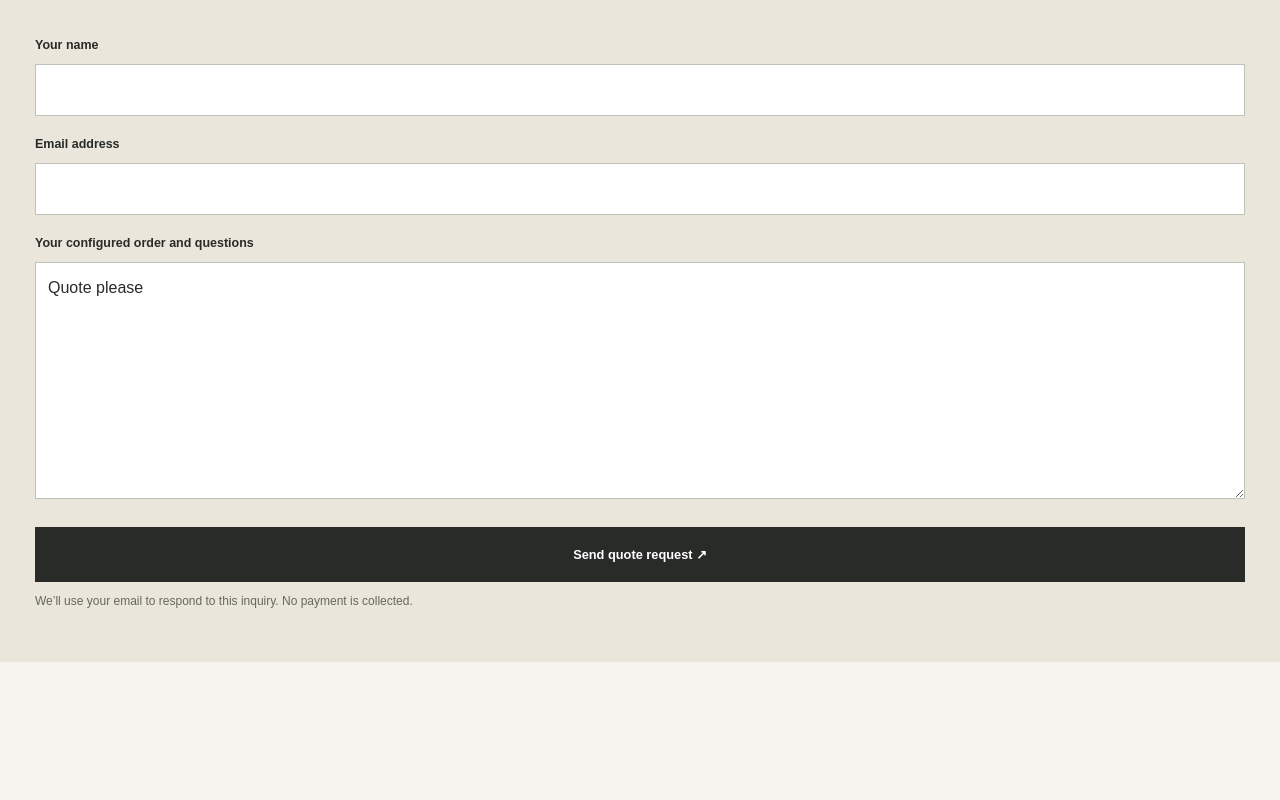
Test: internal-only success explains the missing confirmation
This screenshot has width=1280, height=800.
Type "Trade Buyer" into the field labelled "Your name" at coordinates (640, 90), box [35, 64, 1245, 116]
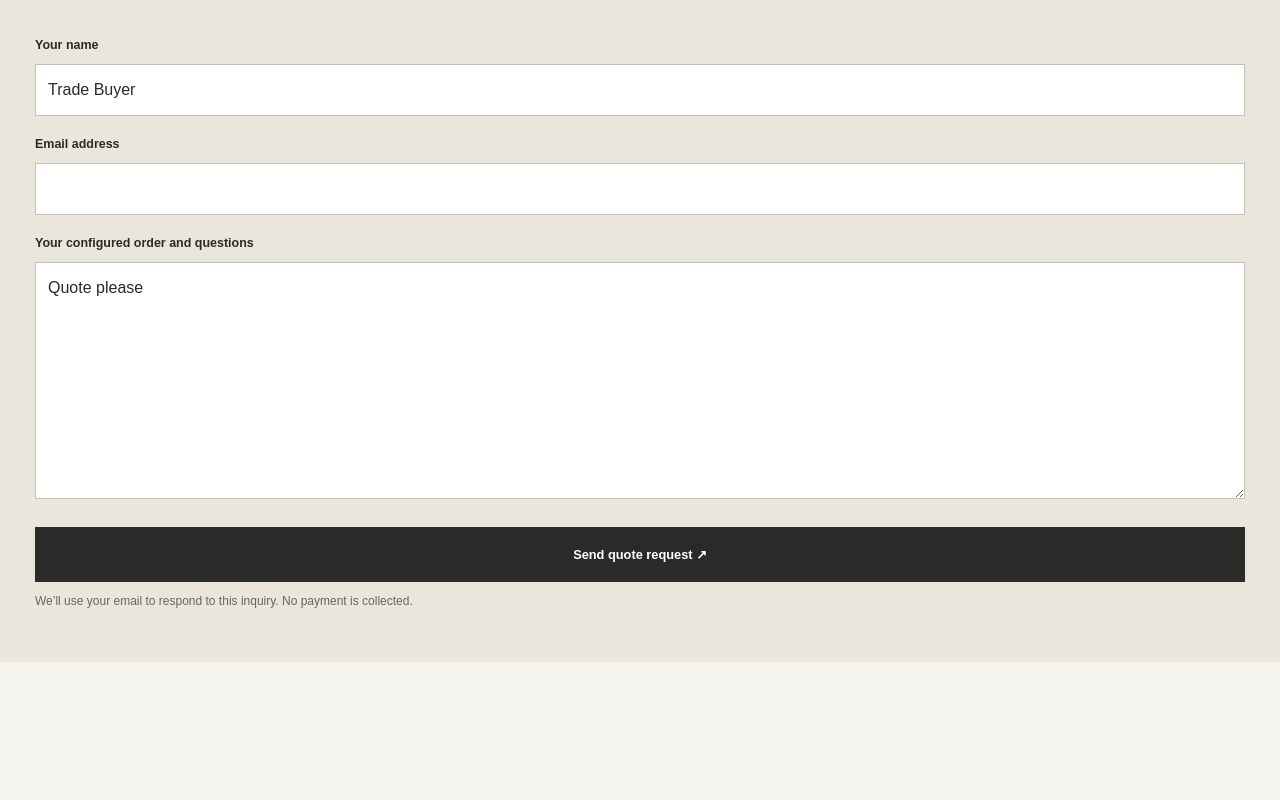
Type "buyer@example.com" into the field labelled "Email address" at coordinates (640, 189), box [35, 163, 1245, 215]
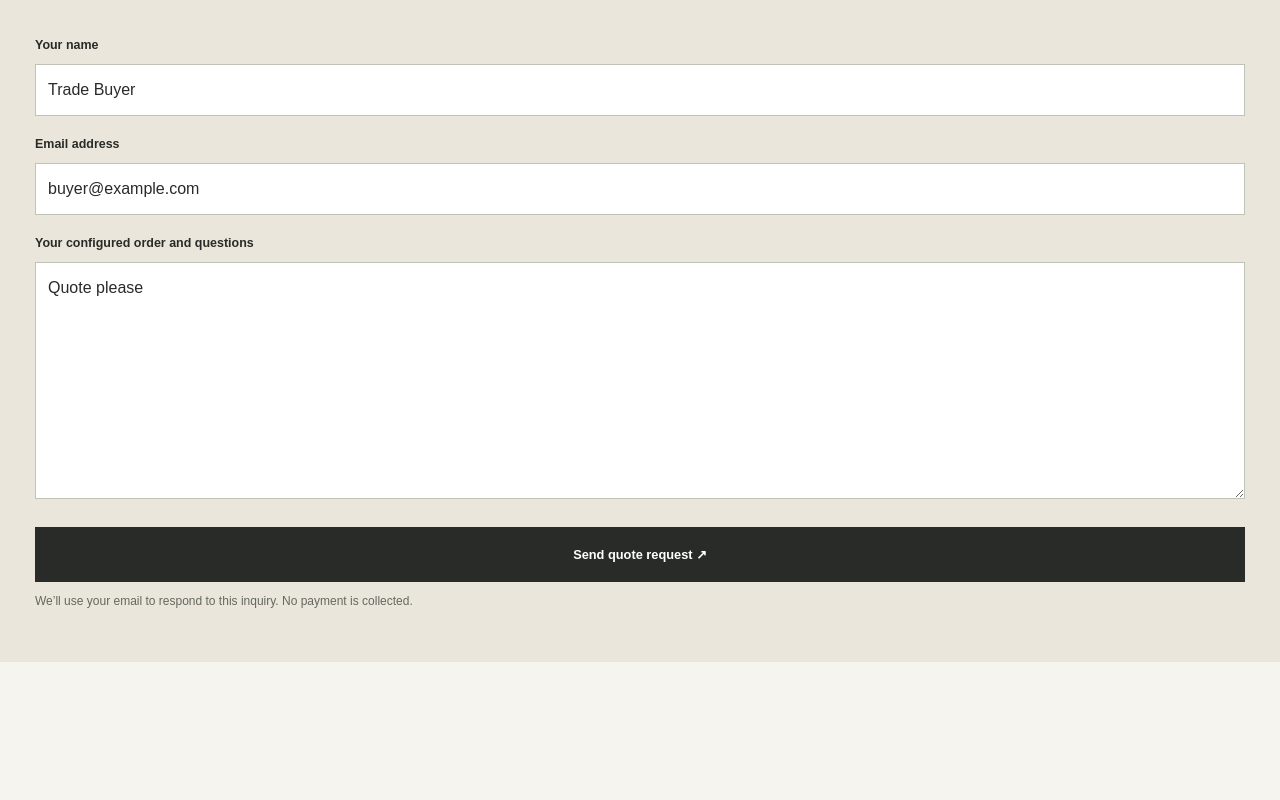
Click the button "Send quote request ↗" at coordinates (640, 555), box [35, 527, 1245, 582]
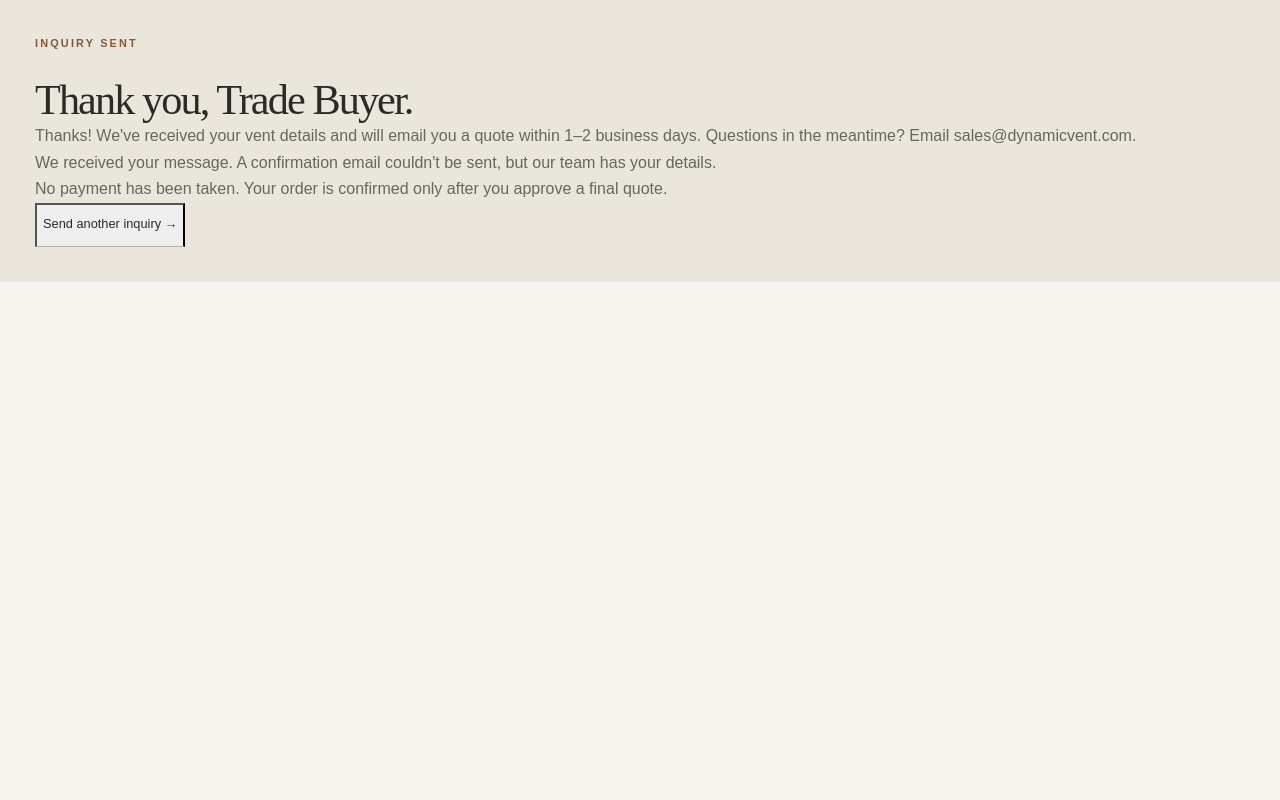
expect the text "A confirmation email couldn't be sent" is shown: met, box [35, 154, 716, 171]
